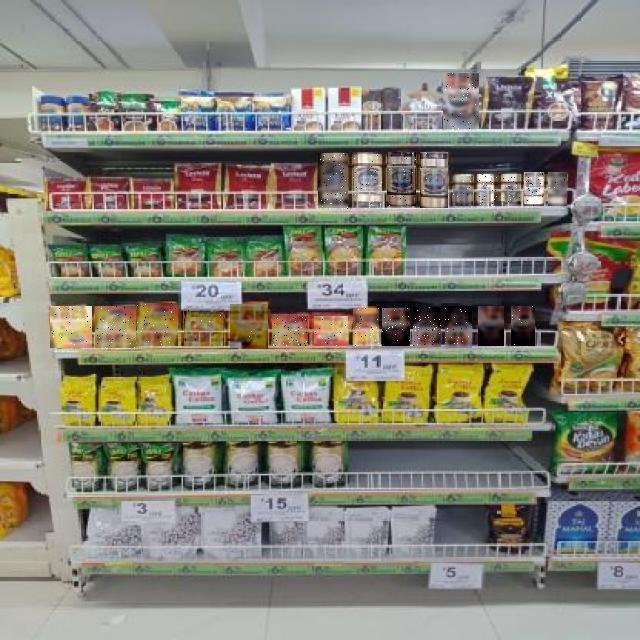Coffee: (443, 73, 479, 129), (50, 306, 92, 348), (137, 303, 178, 346), (95, 306, 136, 348), (318, 154, 348, 210), (230, 304, 268, 348), (353, 152, 382, 208), (420, 152, 448, 208), (387, 152, 416, 206), (185, 308, 225, 347), (445, 306, 472, 348), (413, 307, 441, 347), (272, 316, 308, 346), (382, 308, 410, 346), (478, 306, 504, 346), (315, 316, 349, 346), (353, 308, 379, 346), (511, 306, 535, 346), (525, 172, 545, 206), (478, 174, 498, 208), (548, 172, 567, 206), (453, 176, 473, 206), (502, 174, 520, 204)
